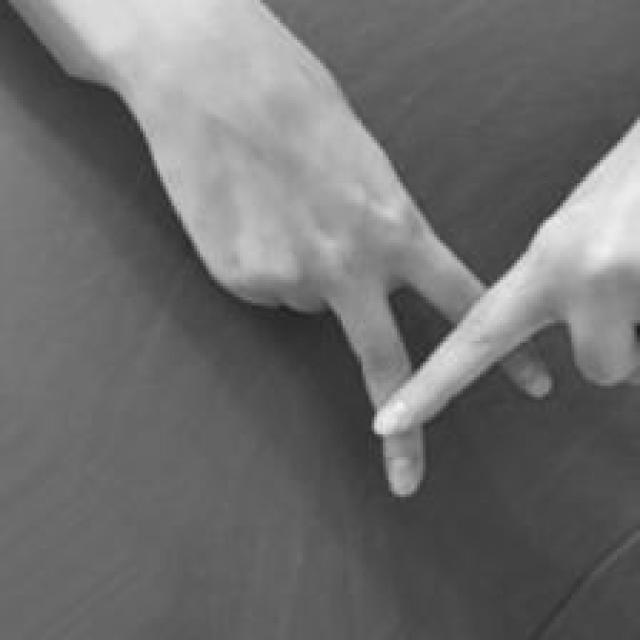A: (117, 83, 640, 503)
